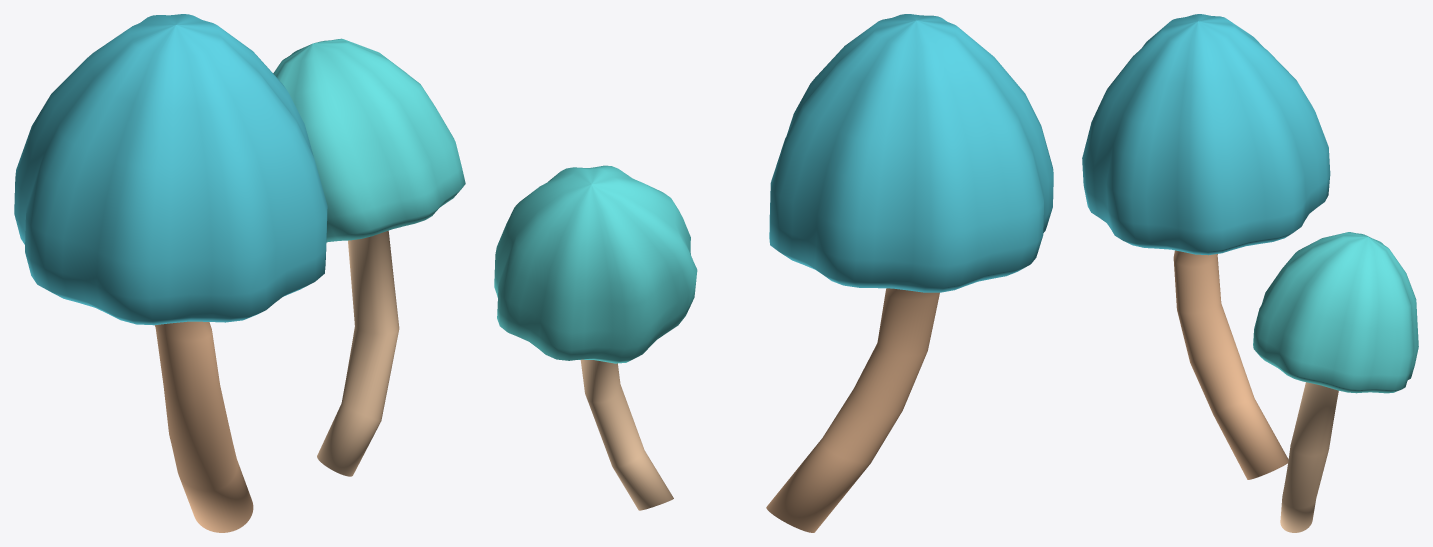
The model's file is MushroomSet6.fbx.
The picture shows the model from 3 angles, left to right: view 1: azimuth 30°, elevation 25°; view 2: azimuth 150°, elevation 25°; view 3: azimuth 270°, elevation 25°; orthographic projection. The views are drawn at different scales.
Visible parts, largest first — view 1: FunkyMushrooms3; view 2: FunkyMushrooms3; view 3: FunkyMushrooms3.
Part boxes in pixels (x1,y1,x2,y2): FunkyMushrooms3: (14, 14, 465, 532); FunkyMushrooms3: (494, 14, 1053, 532); FunkyMushrooms3: (1082, 14, 1418, 532).
Bounding box in the file's own units: 49.46 × 51.86 × 37.27.
